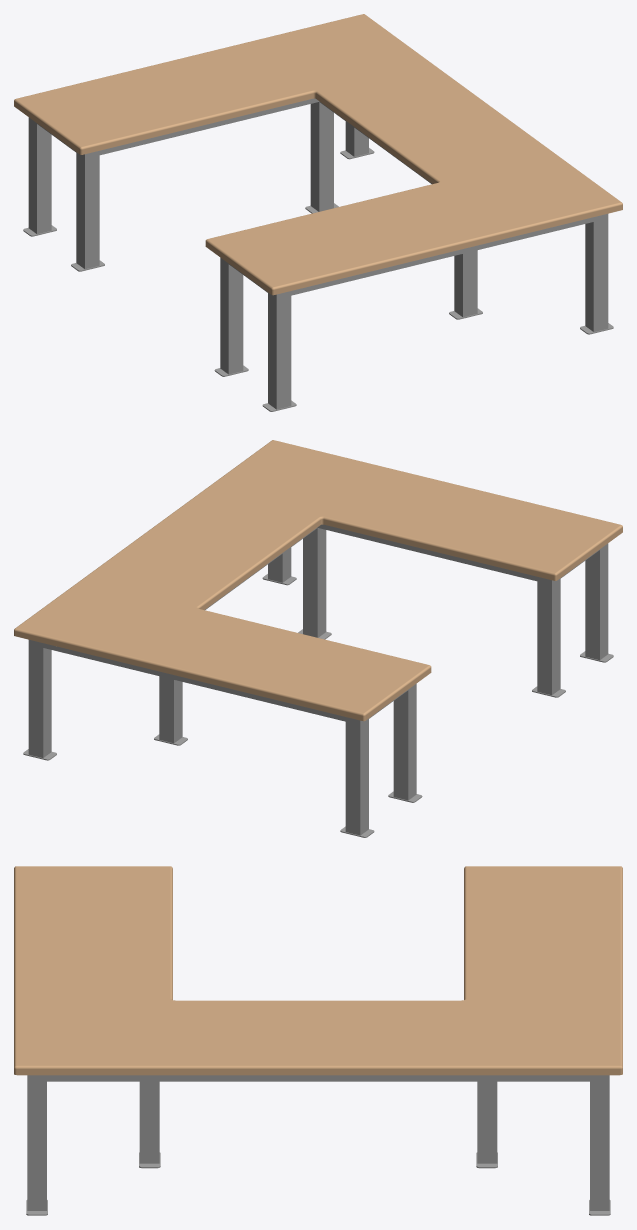
The model's file is surgery_table.dae.
3 renders of one model, top to bottom at view 1: azimuth 30°, elevation 25°; view 2: azimuth 150°, elevation 25°; view 3: azimuth 270°, elevation 25°, orthographic. The views are drawn at different scales.
Visible parts, largest first — view 1: Mesa; view 2: Mesa; view 3: Mesa.
Part boxes in pixels (box(x1,y1,x2,y2)): Mesa: box(14, 14, 622, 411); Mesa: box(14, 440, 622, 837); Mesa: box(14, 866, 622, 1215).
Bounding box in the file's own units: 180 × 230 × 63.
